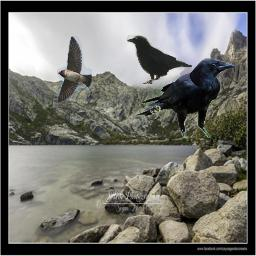Crow: (135, 58, 237, 138), (125, 34, 192, 84)
Swallow: (57, 36, 92, 103)
